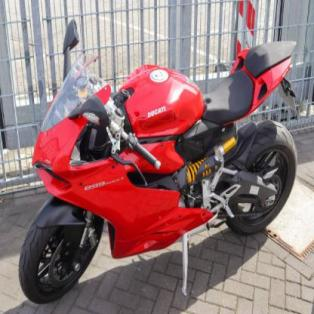Motocicleta: (11, 22, 310, 305)
